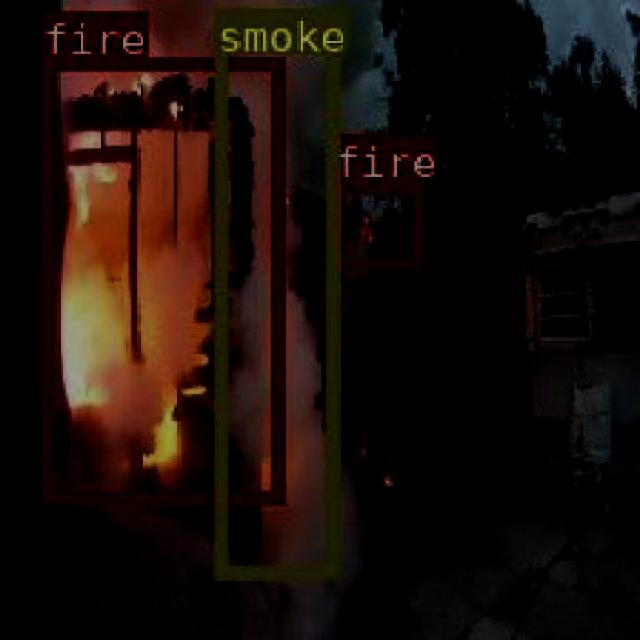fire: (40, 57, 282, 503), (329, 178, 423, 266)
smoke: (212, 6, 336, 577)
